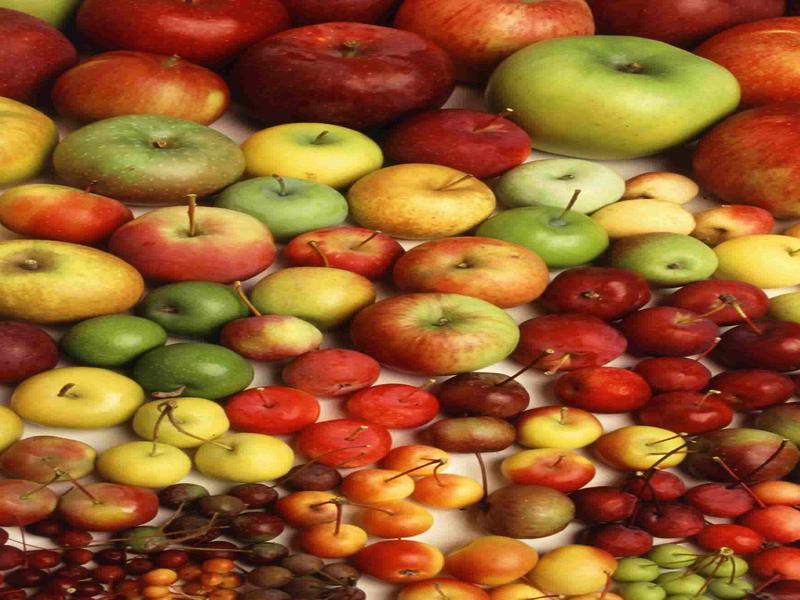apple: (238, 19, 462, 127), (352, 284, 534, 381), (51, 112, 249, 199), (58, 37, 239, 132), (103, 188, 278, 283), (383, 226, 554, 313), (343, 159, 496, 240), (241, 114, 385, 184), (603, 219, 726, 288)
